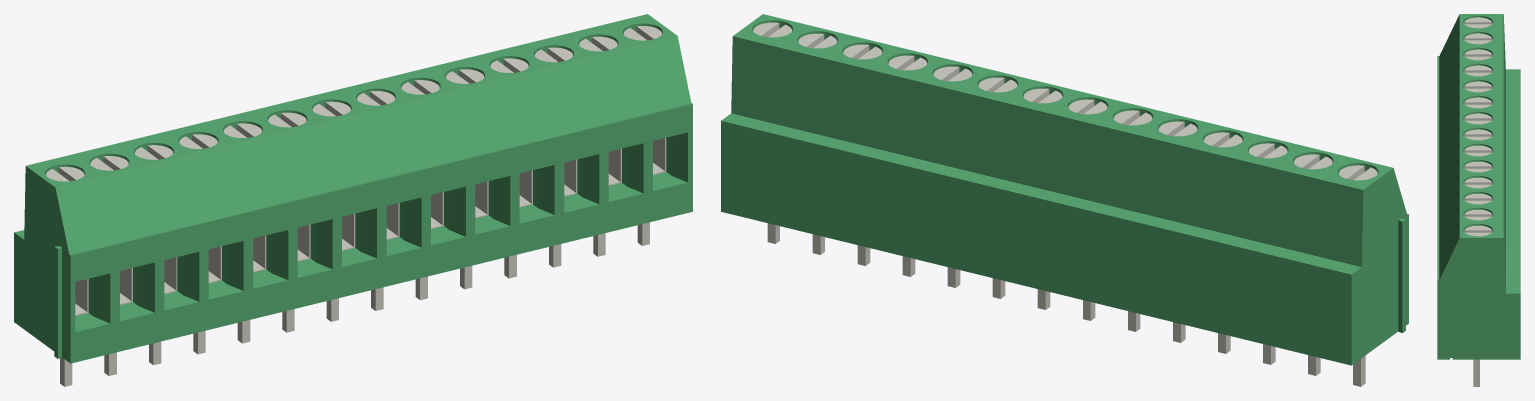
The model's file is kc-terminalblock_phoenix_mkds-3-14-5.08_1x14_p5.08mm_horizontal.glb.
The picture shows the model from 3 angles, left to right: view 1: azimuth 30°, elevation 25°; view 2: azimuth 150°, elevation 25°; view 3: azimuth 270°, elevation 25°; orthographic projection. The views are drawn at different scales.
Parts seen in each view (by area): view 1: 0.08333333333333333_0.4166666666666667_0.16666666666666666_0, 0.6666666666666666_0.6666666666666666_0.5833333333333334_0.8; view 2: 0.08333333333333333_0.4166666666666667_0.16666666666666666_0, 0.6666666666666666_0.6666666666666666_0.5833333333333334_0.8; view 3: 0.08333333333333333_0.4166666666666667_0.16666666666666666_0, 0.6666666666666666_0.6666666666666666_0.5833333333333334_0.8.
Part boxes in pixels (x1,y1,x2,y2): 0.08333333333333333_0.4166666666666667_0.16666666666666666_0: [14, 14, 692, 363]; 0.6666666666666666_0.6666666666666666_0.5833333333333334_0.8: [46, 26, 666, 386]; 0.08333333333333333_0.4166666666666667_0.16666666666666666_0: [721, 14, 1408, 365]; 0.6666666666666666_0.6666666666666666_0.5833333333333334_0.8: [753, 22, 1377, 386]; 0.08333333333333333_0.4166666666666667_0.16666666666666666_0: [1437, 14, 1520, 359]; 0.6666666666666666_0.6666666666666666_0.5833333333333334_0.8: [1464, 17, 1492, 386].
Bounding box in the file's own units: 7.17 × 2.3 × 1.12.
